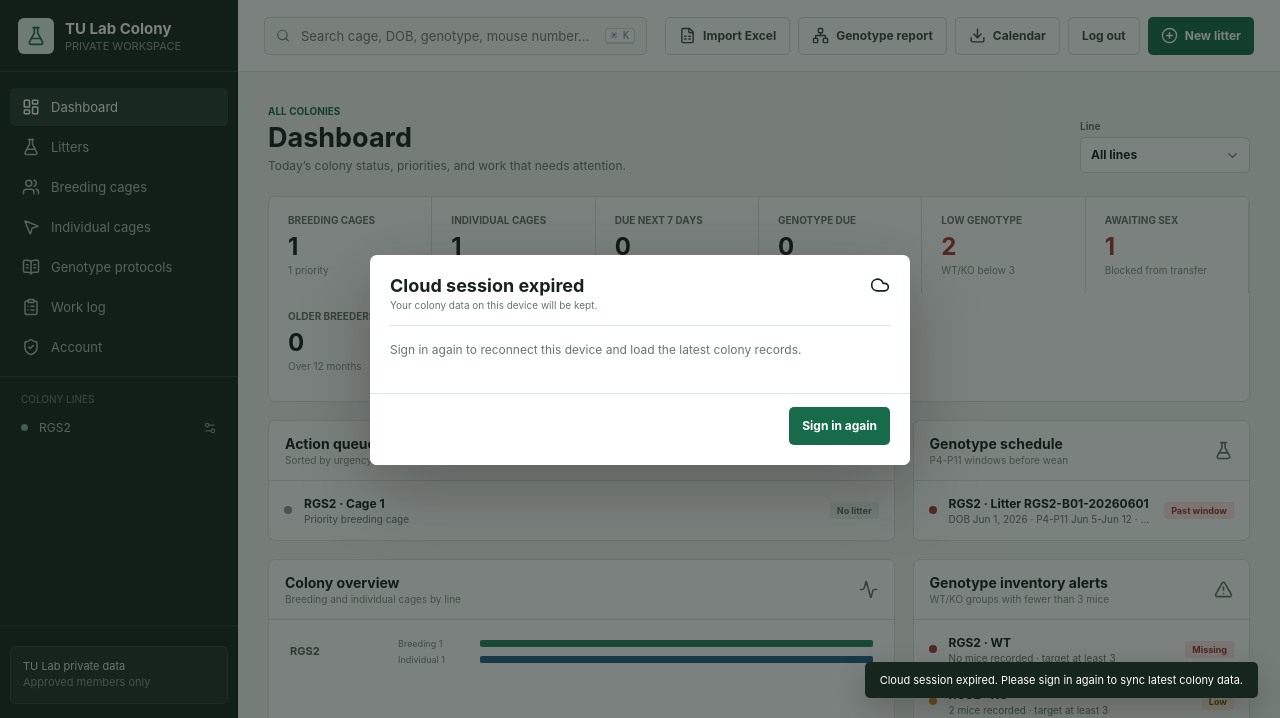
TU Lab Colony production auth › does not write stale browser cache to the cloud when the refresh session is missing
Check: the text "Cloud session expired. Please sign in again to sync latest colony data." is shown, box [865,662,1258,698]
Click the button "Sign in again" at {"x": 840, "y": 426}, box [789,407,890,445]
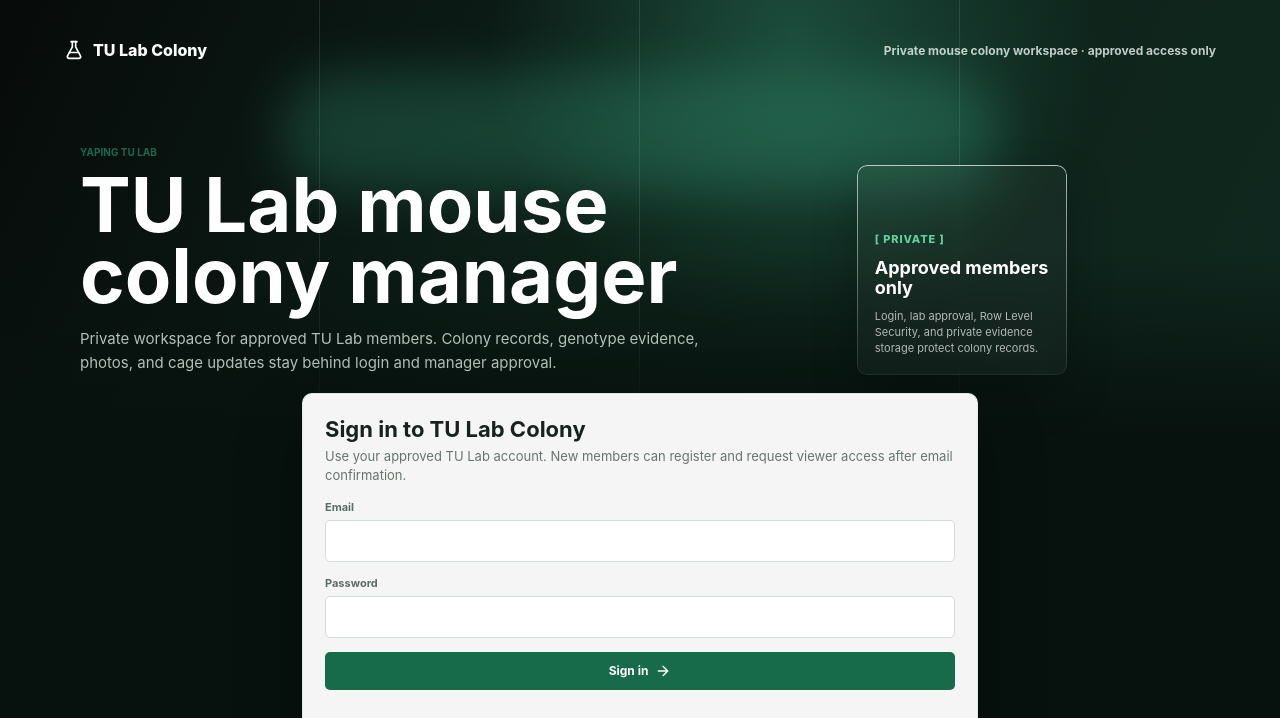
Check: the field labelled "Email" is shown, box [325,520,955,562]
